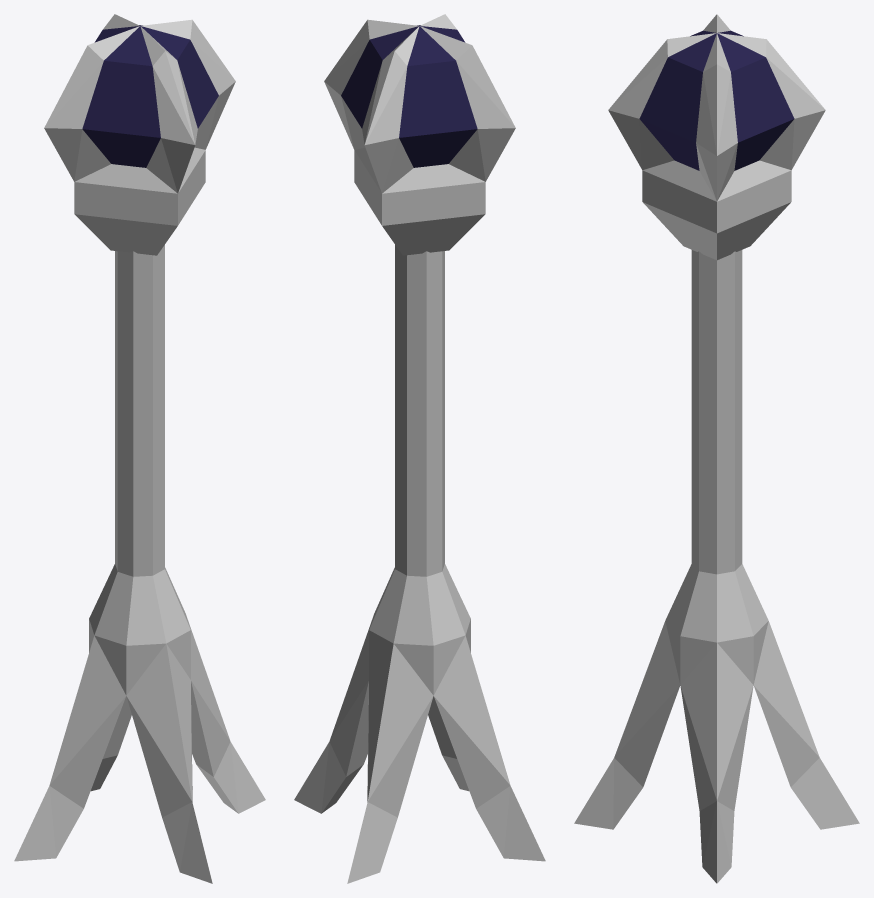
File: ORC_FIREPLACE_V1.OBJ
3 views of the same model, side by side, from view 1: azimuth 30°, elevation 25°; view 2: azimuth 150°, elevation 25°; view 3: azimuth 270°, elevation 25° (orthographic).
Parts seen in each view (by area): view 1: ORC_FIREPLACE_V1; view 2: ORC_FIREPLACE_V1; view 3: ORC_FIREPLACE_V1.
Part boxes in pixels (box(x1,y1,x2,y2)): ORC_FIREPLACE_V1: box(14, 14, 265, 883); ORC_FIREPLACE_V1: box(294, 14, 545, 883); ORC_FIREPLACE_V1: box(574, 14, 859, 883).
Bounding box in the file's own units: 0.7958 × 2.43 × 0.7958.
